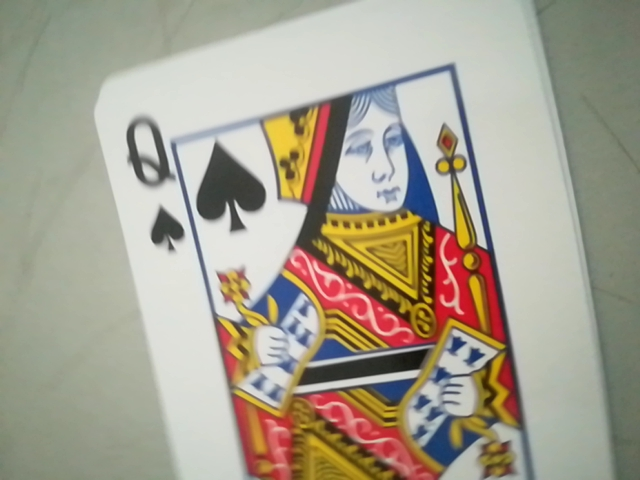ht q: (114, 107, 194, 263)
